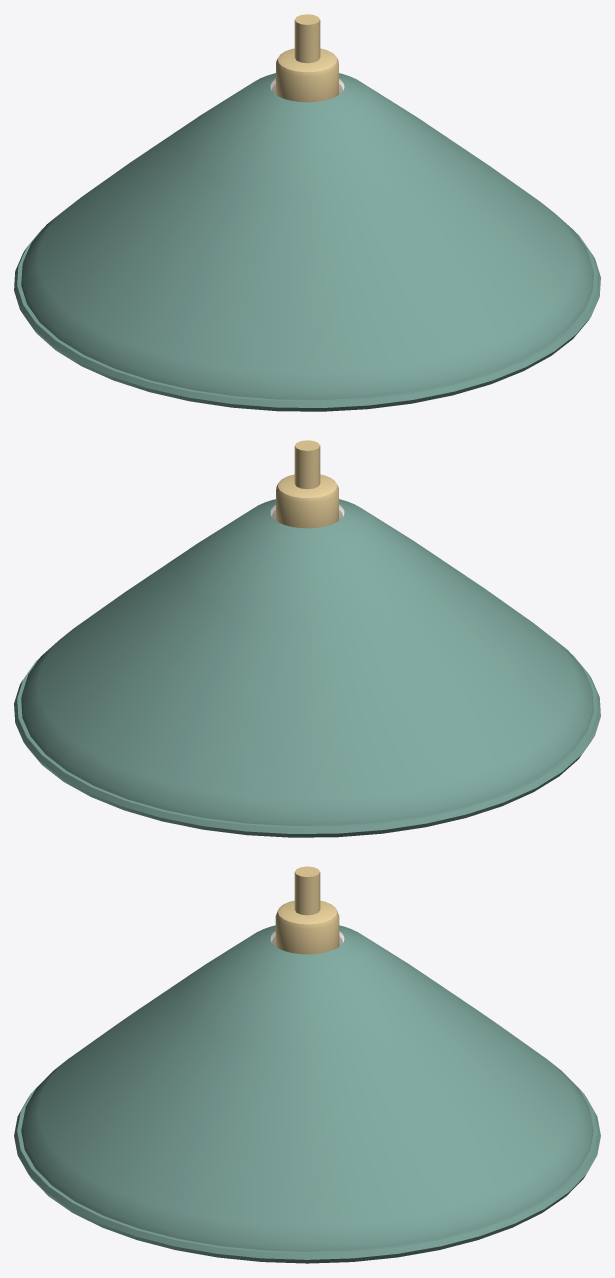
The model's file is pendant_lamp.glb.
The picture shows the model from 3 angles, top to bottom: view 1: azimuth 30°, elevation 25°; view 2: azimuth 150°, elevation 25°; view 3: azimuth 270°, elevation 25°; orthographic projection.
Parts seen in each view (by area): view 1: pendant_lamp; view 2: pendant_lamp; view 3: pendant_lamp.
Boxes of the visible parts, left/top/right/bottom form: pendant_lamp: left=14, top=14, right=600, bottom=411; pendant_lamp: left=14, top=440, right=600, bottom=837; pendant_lamp: left=14, top=866, right=600, bottom=1263.
Bounding box in the file's own units: 0.556 × 0.3333 × 0.556.
